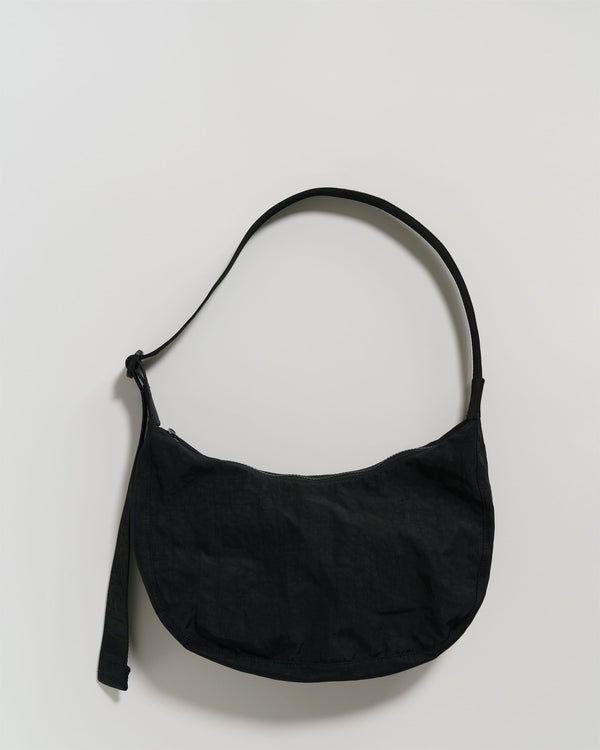nylon: (96, 186, 496, 691)
